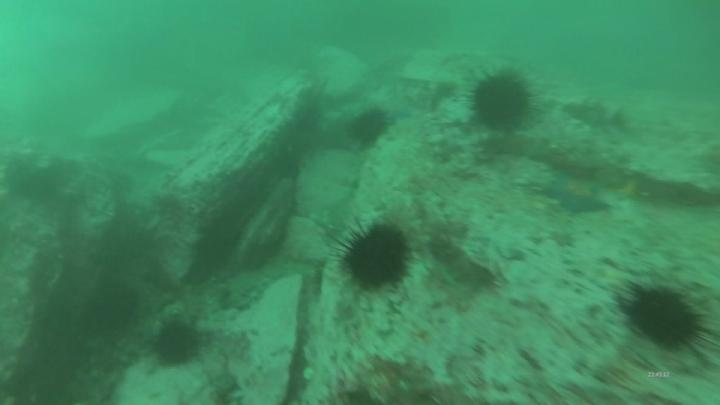echinus: (616, 278, 718, 368), (328, 216, 417, 297), (460, 65, 542, 138), (147, 319, 206, 372), (343, 104, 395, 152)
starfish: (537, 167, 615, 219)
